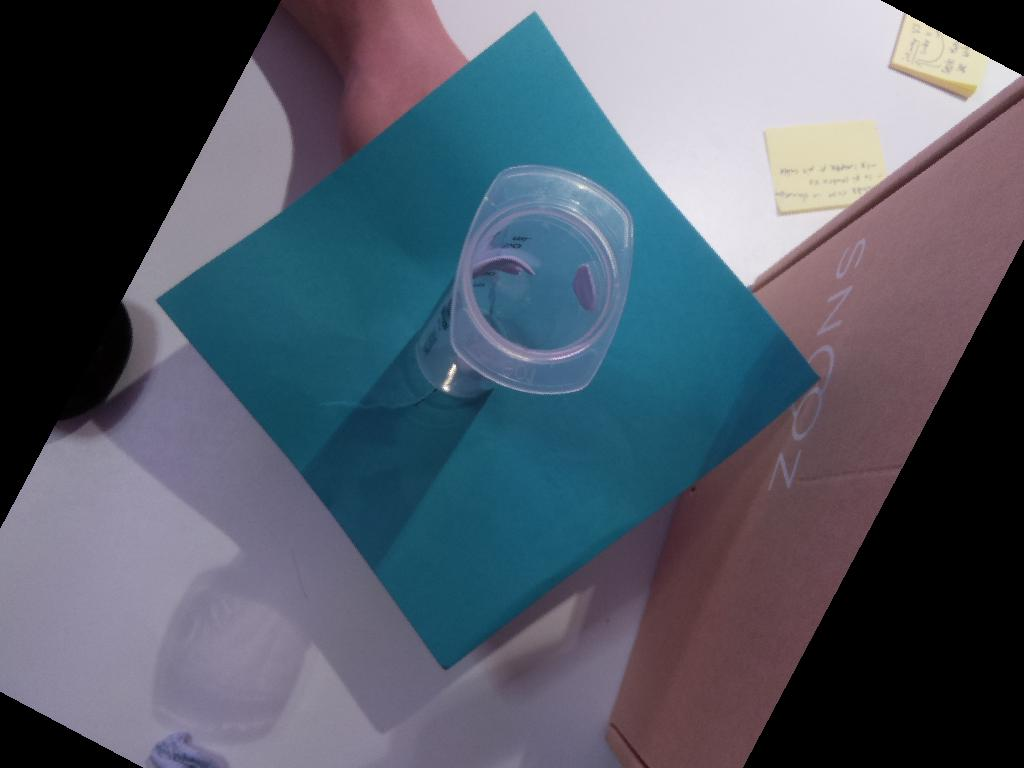dirty: (450, 163, 634, 395)
